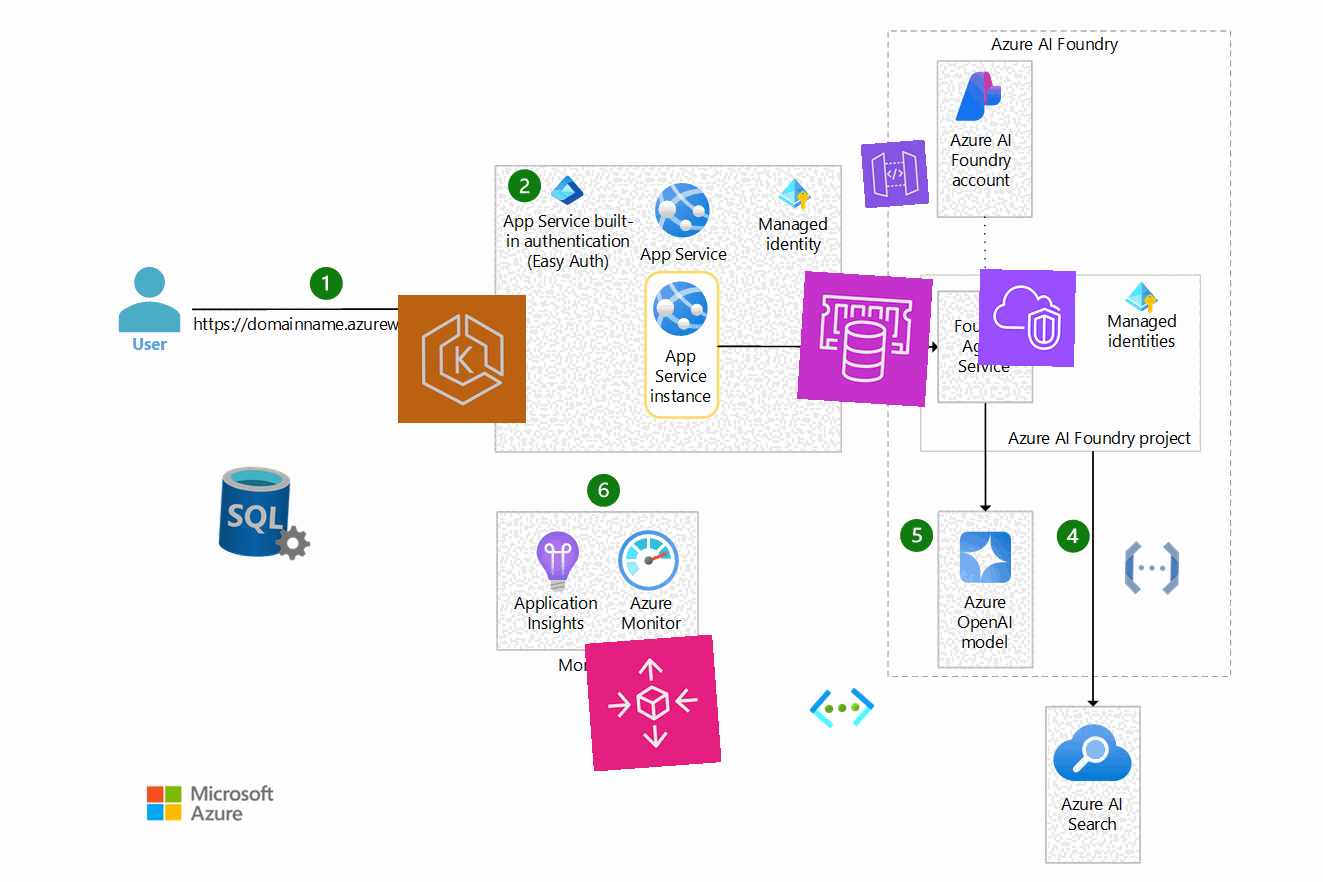aws_amazon_api_gateway: (860, 139, 930, 209)
aws_amazon_elastic_kubernetes_service: (397, 294, 527, 424)
aws_amazon_elasticache: (797, 271, 933, 407)
aws_amazon_virtual_private_cloud: (978, 269, 1076, 367)
aws_auto_scaling: (584, 634, 722, 772)
azure_sql_server: (215, 462, 317, 564)
azure_virtual_networks: (807, 673, 877, 743)
gcp_cloud_functions: (1119, 535, 1185, 601)
